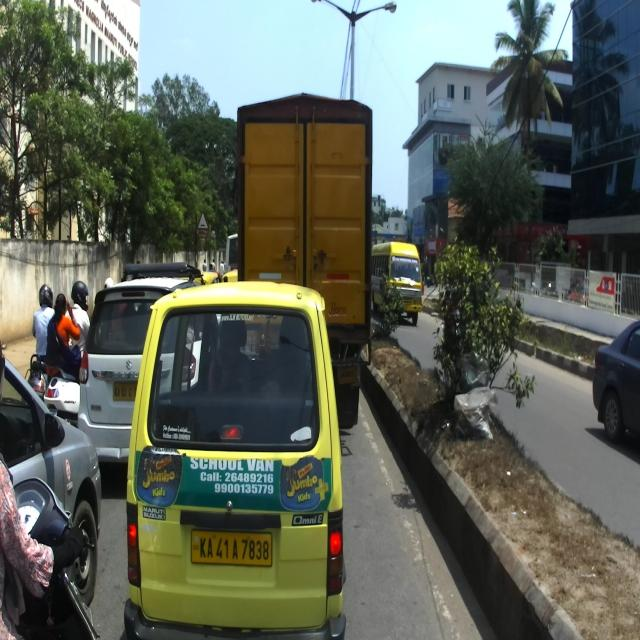bus: (370, 240, 422, 324)
car: (122, 279, 348, 640), (0, 338, 102, 607), (78, 262, 207, 465)
scooter: (42, 362, 80, 427), (24, 352, 55, 404)
truck: (236, 91, 373, 424)
